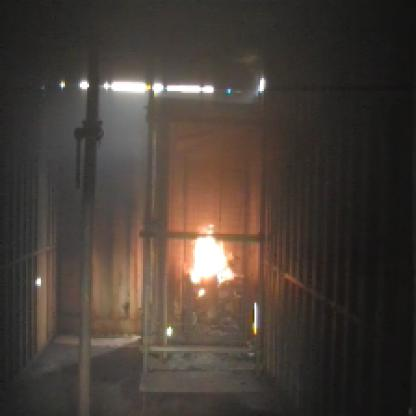Fire: (189, 223, 234, 297)
